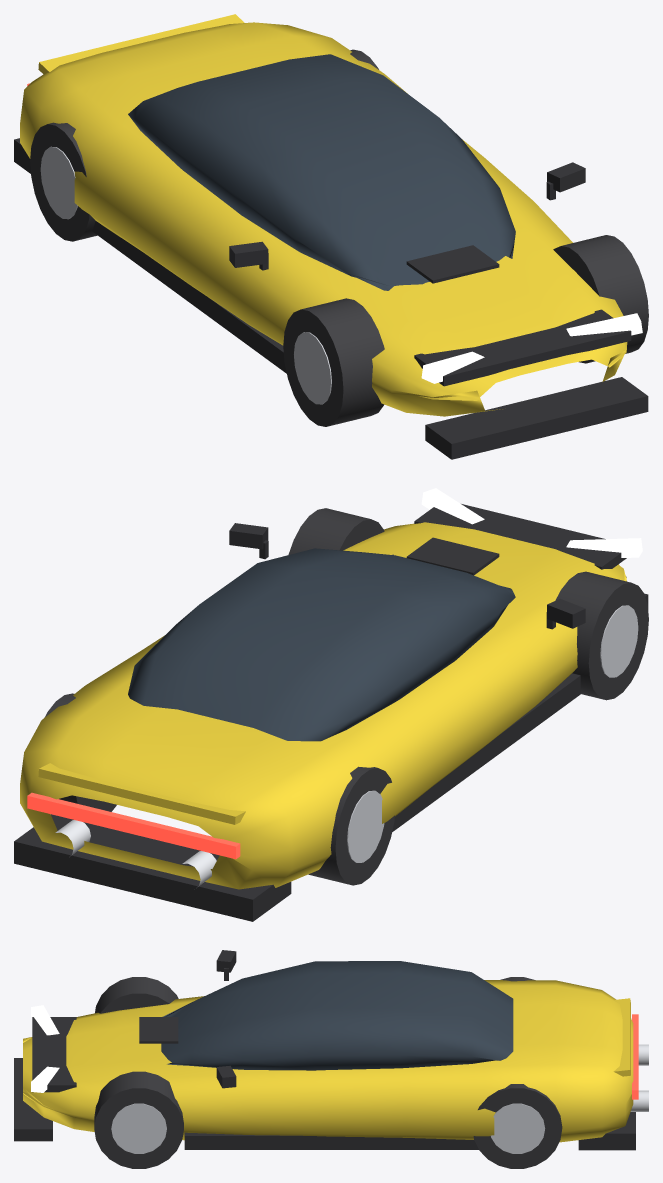
The model's file is mashin_sport.glb.
3 views of the same model, one above another, from view 1: azimuth 30°, elevation 25°; view 2: azimuth 150°, elevation 25°; view 3: azimuth 270°, elevation 25° (orthographic). The views are drawn at different scales.
Visible parts, largest first — view 1: badane, kabin, tirkeshi, charkh_jelo_rast_tir, charkh_jelo_chap_tir, charkh_paeen_rast_tir, charkh_jelo_rast_ring, charkh_paeen_rast_ring, cheragh_jelo; view 2: badane, kabin, tirkeshi, charkh_jelo_rast_tir, charkh_paeen_rast_tir, cheragh_aqab, charkh_jelo_chap_tir, charkh_jelo_rast_ring, charkh_paeen_rast_ring, cheragh_jelo, egzoz, charkh_paeen_chap_tir; view 3: badane, kabin, tirkeshi, charkh_jelo_chap_tir, charkh_paeen_chap_tir, charkh_jelo_chap_ring, charkh_paeen_chap_ring, charkh_jelo_rast_tir, cheragh_jelo, egzoz, cheragh_aqab.
Boxes of the visible parts, x1=… form: badane: x1=20, y1=22, x2=627, y2=416; kabin: x1=128, y1=54, x2=515, y2=290; tirkeshi: x1=14, y1=14, x2=648, y2=459; charkh_jelo_rast_tir: x1=283, y1=298, x2=384, y2=426; charkh_jelo_chap_tir: x1=553, y1=235, x2=648, y2=363; charkh_paeen_rast_tir: x1=30, y1=122, x2=97, y2=241; charkh_jelo_rast_ring: x1=294, y1=332, x2=331, y2=404; charkh_paeen_rast_ring: x1=40, y1=146, x2=77, y2=219; cheragh_jelo: x1=421, y1=313, x2=642, y2=383; badane: x1=20, y1=522, x2=626, y2=889; kabin: x1=128, y1=548, x2=515, y2=741; tirkeshi: x1=14, y1=504, x2=648, y2=921; charkh_jelo_rast_tir: x1=555, y1=571, x2=648, y2=700; charkh_paeen_rast_tir: x1=308, y1=766, x2=394, y2=885; cheragh_aqab: x1=27, y1=792, x2=240, y2=859; charkh_jelo_chap_tir: x1=288, y1=508, x2=384, y2=554; charkh_jelo_rast_ring: x1=600, y1=605, x2=638, y2=677; charkh_paeen_rast_ring: x1=347, y1=790, x2=384, y2=862; cheragh_jelo: x1=421, y1=488, x2=642, y2=557; egzoz: x1=55, y1=820, x2=216, y2=886; charkh_paeen_chap_tir: x1=44, y1=693, x2=116, y2=811; badane: x1=23, y1=980, x2=633, y2=1142; kabin: x1=161, y1=961, x2=513, y2=1070; tirkeshi: x1=14, y1=950, x2=635, y2=1150; charkh_jelo_chap_tir: x1=94, y1=1071, x2=183, y2=1168; charkh_paeen_chap_tir: x1=473, y1=1084, x2=562, y2=1168; charkh_jelo_chap_ring: x1=111, y1=1103, x2=166, y2=1153; charkh_paeen_chap_ring: x1=491, y1=1103, x2=545, y2=1153; charkh_jelo_rast_tir: x1=95, y1=977, x2=178, y2=1013; cheragh_jelo: x1=31, y1=1005, x2=59, y2=1092; egzoz: x1=630, y1=1044, x2=648, y2=1111; cheragh_aqab: x1=632, y1=1014, x2=638, y2=1099.
Size of what is drawn, in the model's own units: 2.32 by 1.04 by 4.87.
